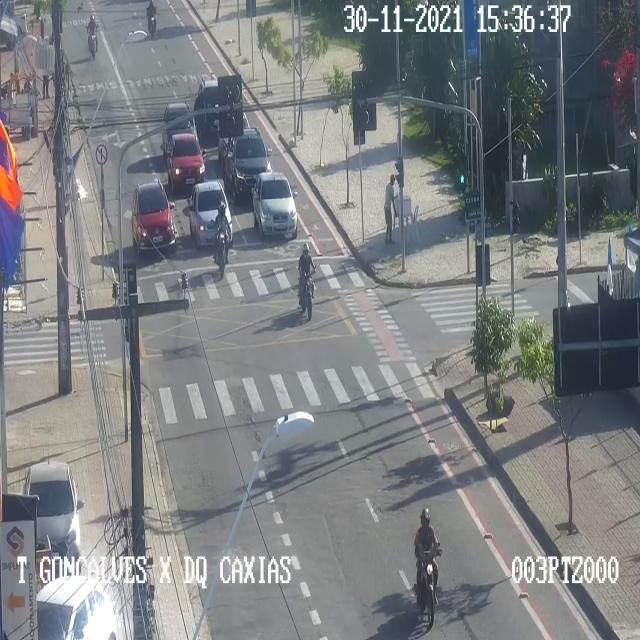Car: (22, 463, 84, 570), (36, 575, 120, 639), (217, 127, 273, 204), (251, 171, 300, 241), (131, 180, 176, 255), (188, 178, 234, 245), (166, 134, 205, 190), (198, 76, 233, 138), (162, 100, 200, 156)
Motorcycle: (414, 510, 442, 628), (296, 245, 318, 322), (210, 201, 232, 277), (85, 15, 99, 61), (146, 1, 157, 40)
